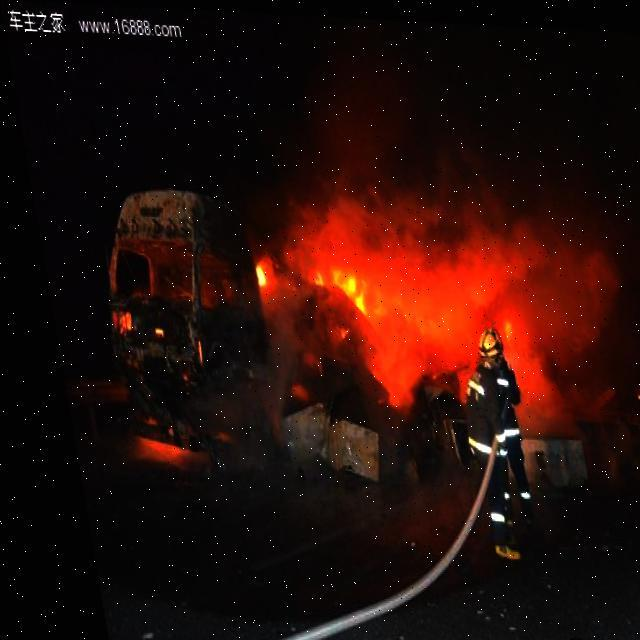Fire: (238, 236, 374, 333)
